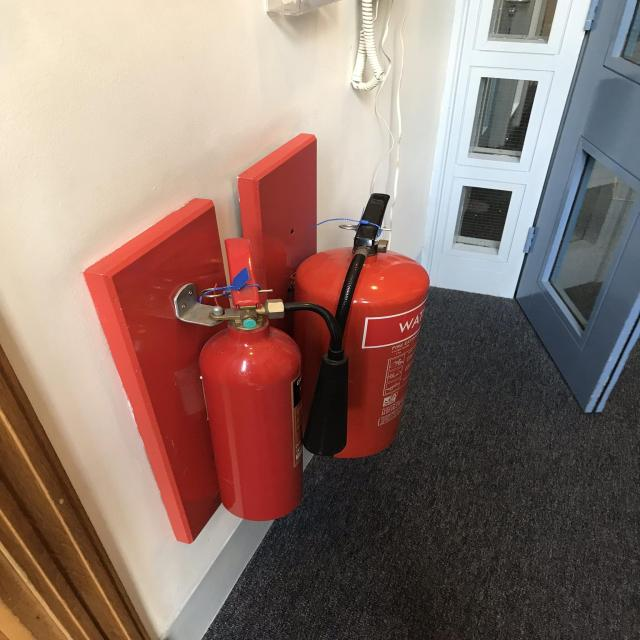fire_extinguisher: (193, 234, 354, 522), (272, 190, 437, 462)
